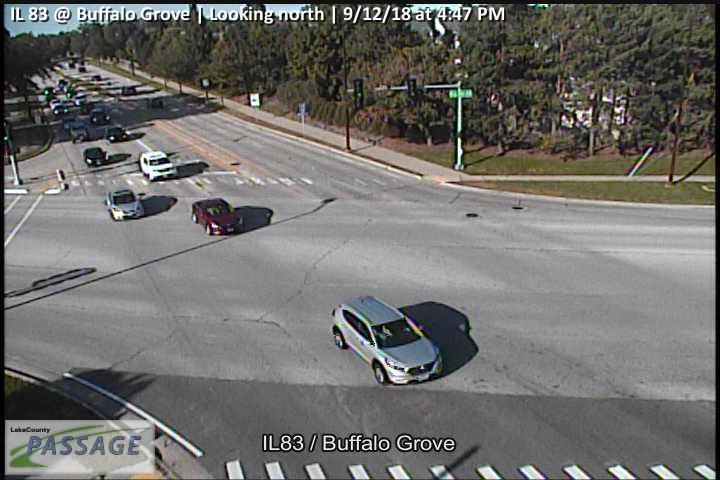SUV: (330, 292, 444, 384)
Sedan: (191, 195, 246, 236), (137, 149, 179, 182), (105, 189, 146, 221), (82, 147, 108, 167), (88, 107, 111, 124), (104, 125, 127, 141)
